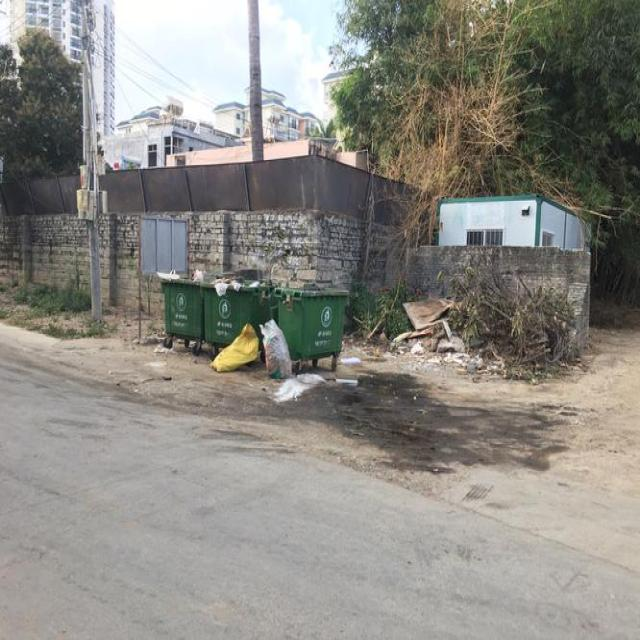garbage: (208, 318, 290, 377)
garbage_bin: (273, 284, 348, 357)
overflow: (204, 273, 276, 343), (155, 268, 202, 336)
